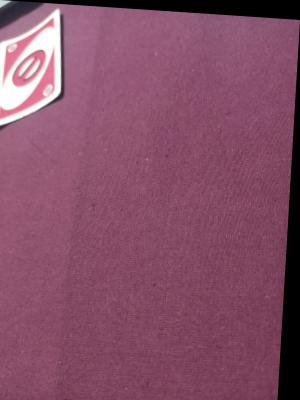skip: (10, 46, 59, 101)
